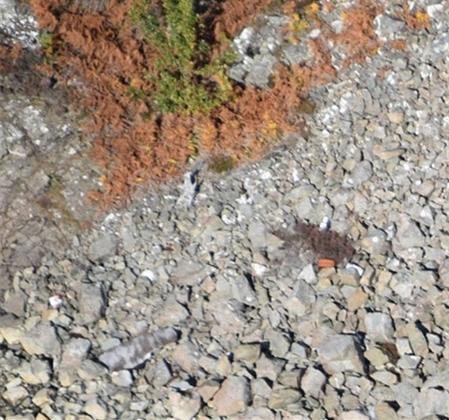white_in_green: (300, 237, 351, 283)
